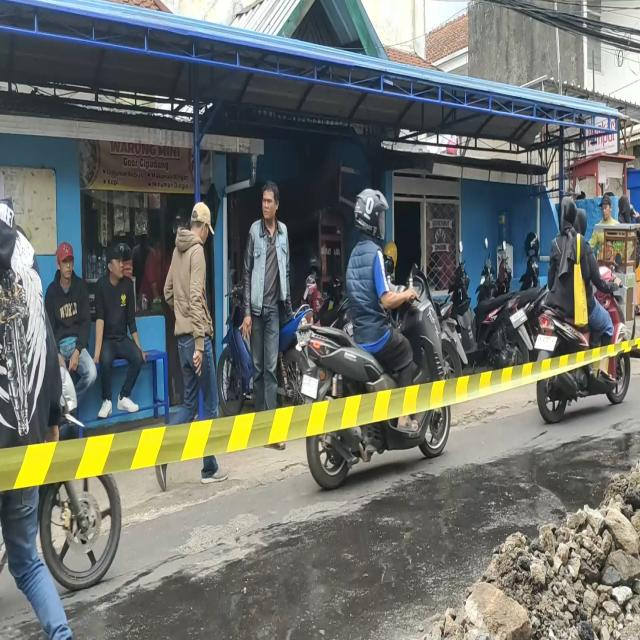helmet: (355, 189, 389, 237)
no-helmet: (559, 198, 574, 224), (577, 212, 586, 236)
